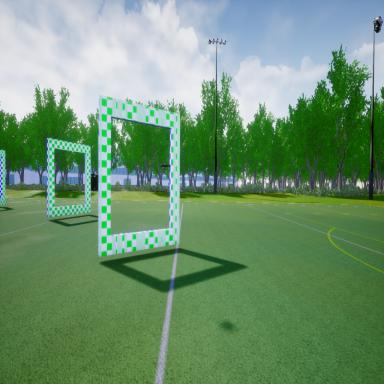gate: (94, 90, 182, 264), (46, 132, 92, 220)
